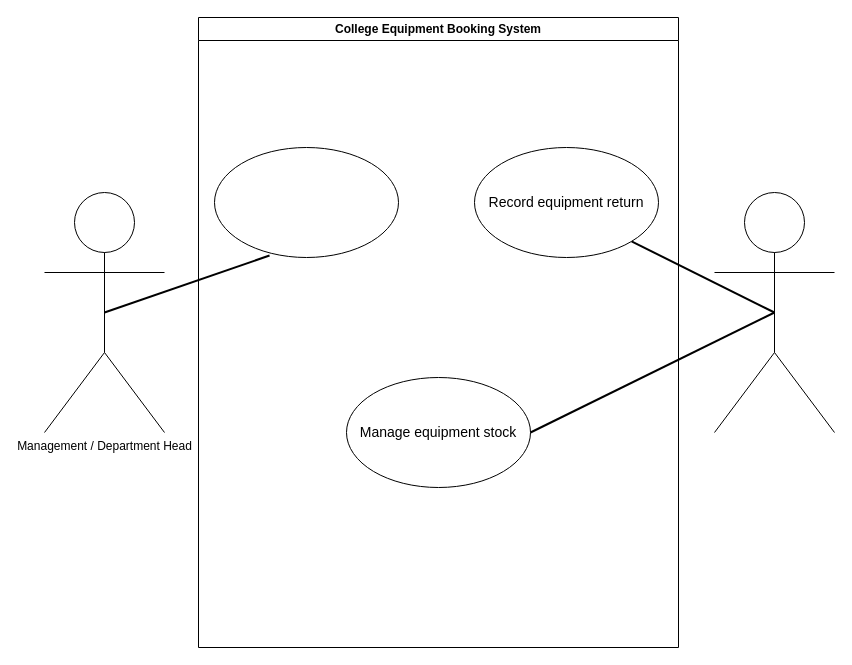
Image size: 852x665. Some labels were removed from this diagram. Here are the shapes that lost their labels. From the top down, the box of each, then its label:
(214, 146, 398, 258): View equipment / Booking data
(714, 192, 834, 432): Equipment Staff
